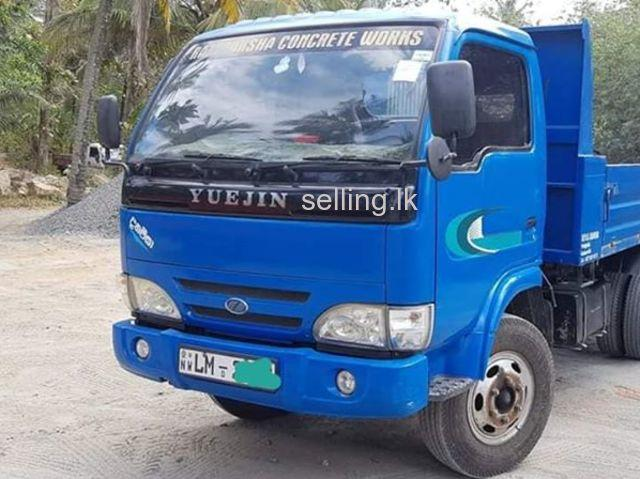truck: (96, 6, 640, 479)
